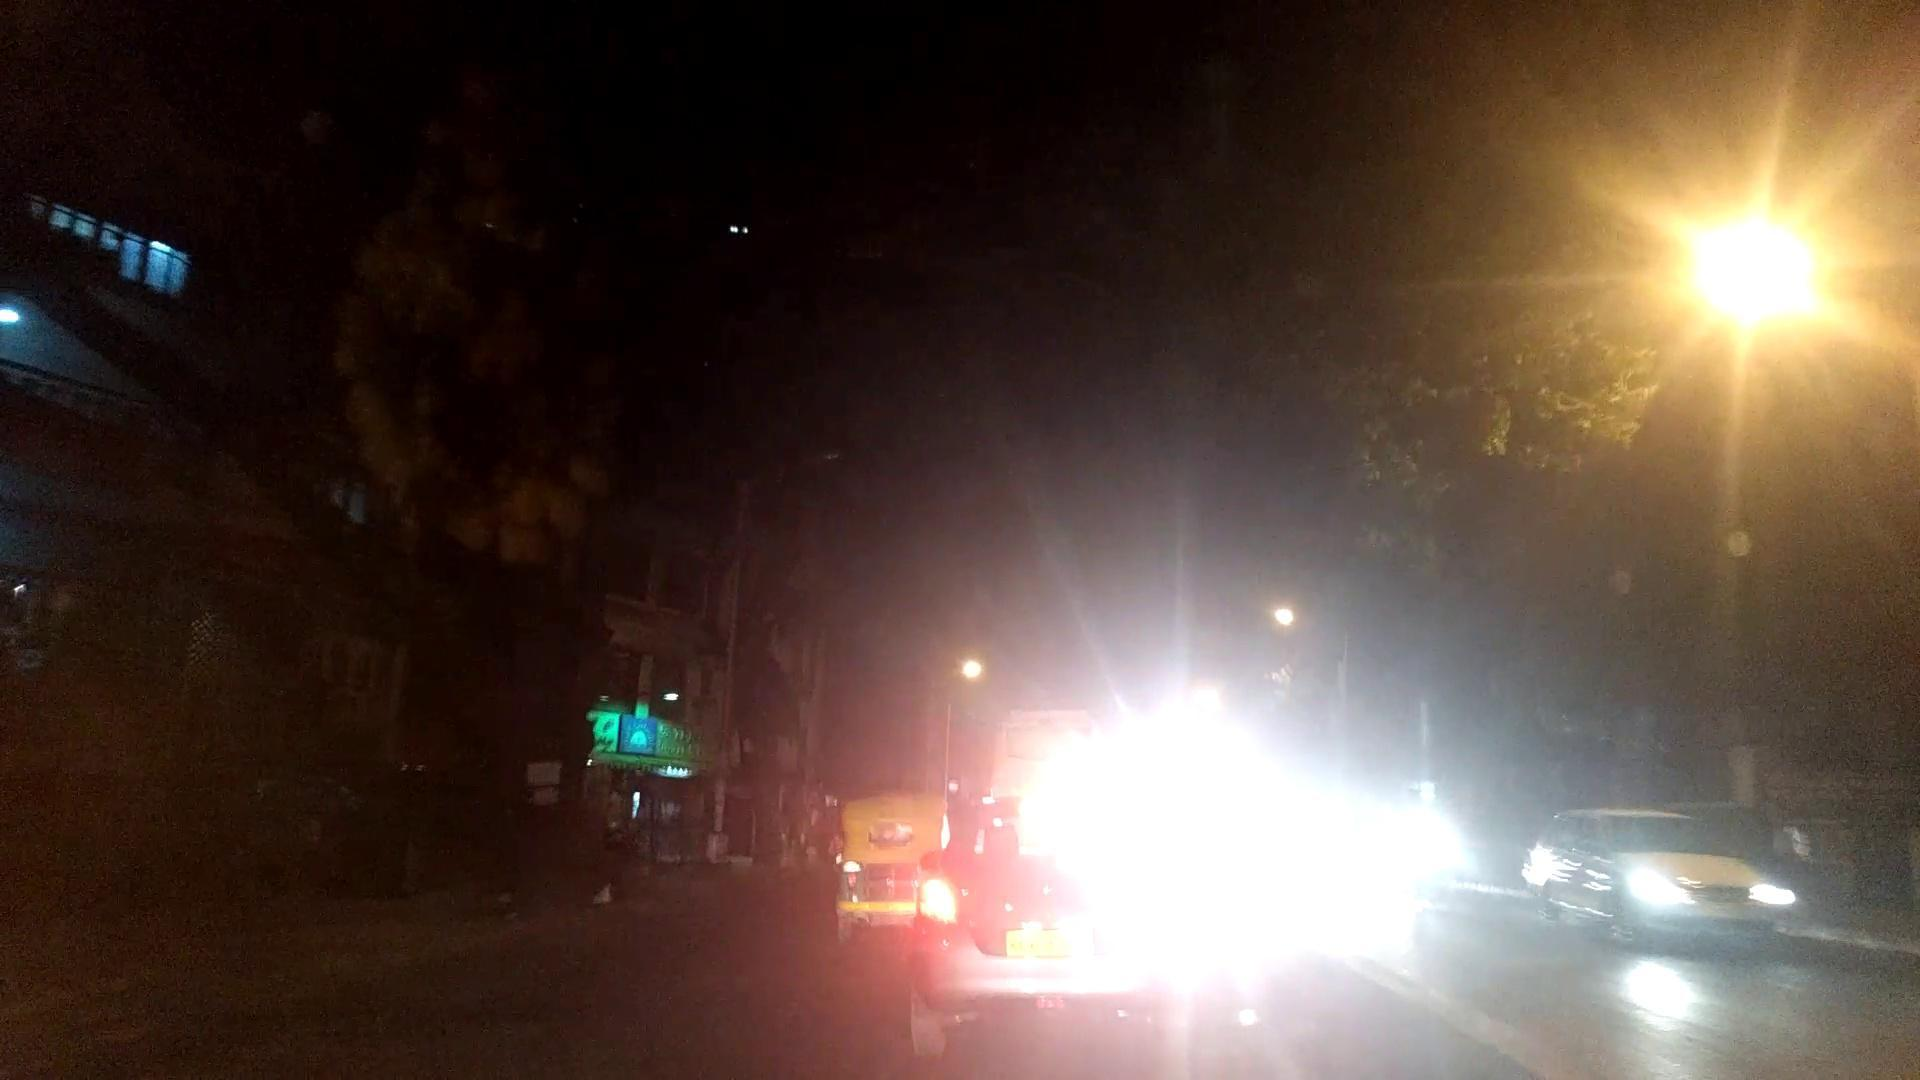on: (1630, 51, 1919, 427)
